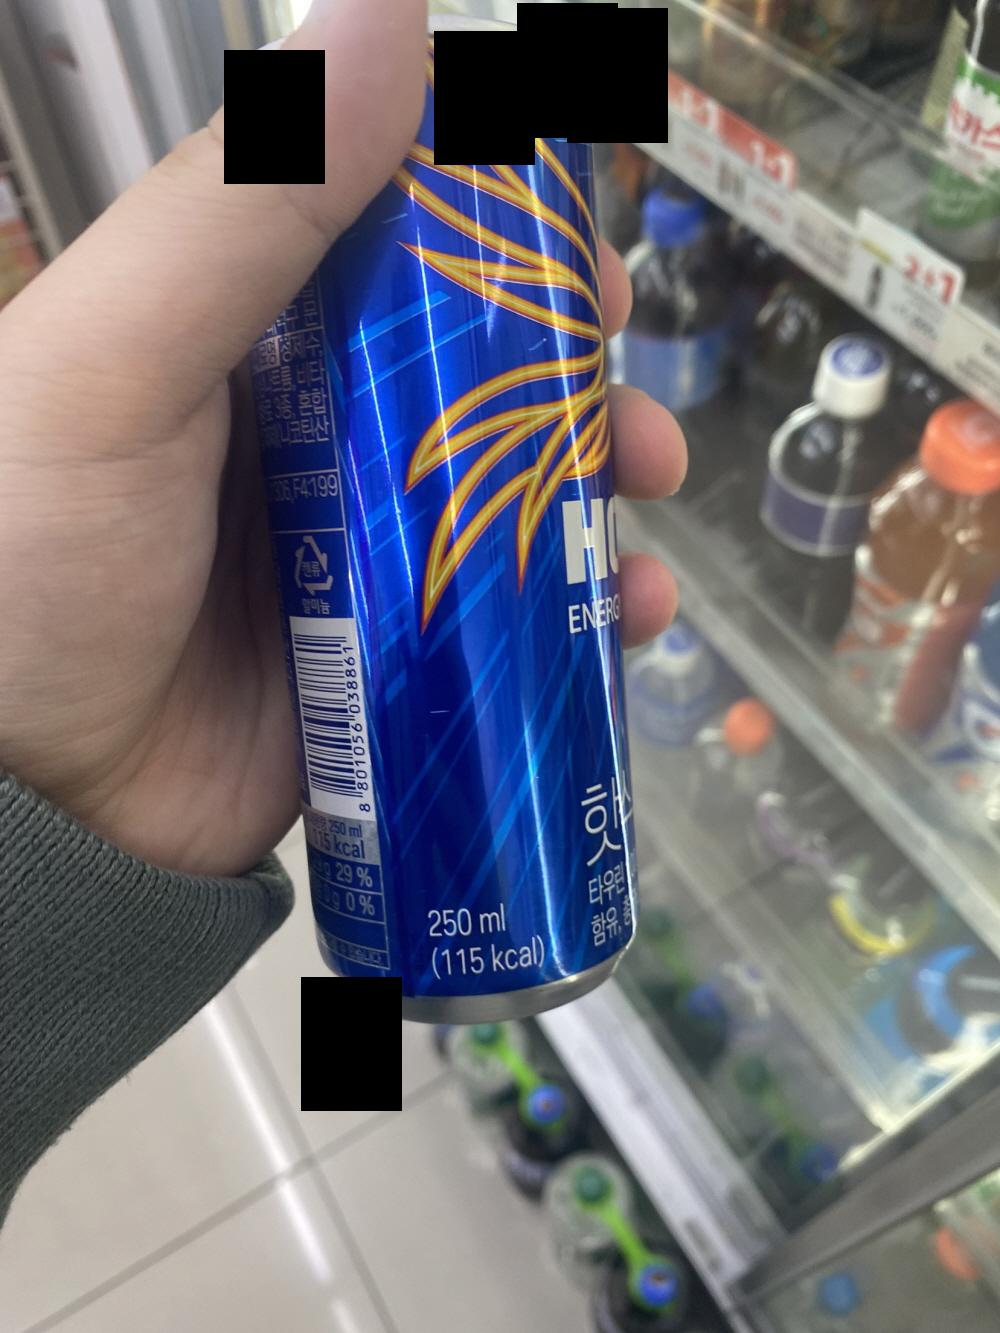hotsix_org: (259, 32, 633, 1013)
